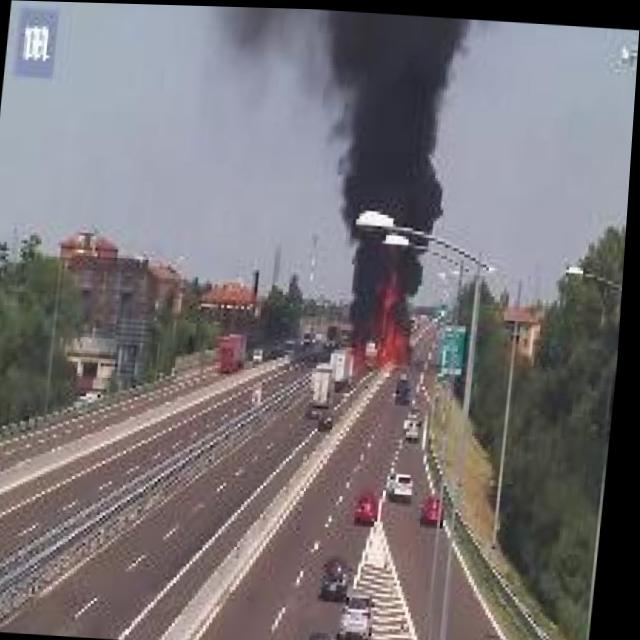fire: (352, 256, 427, 369)
